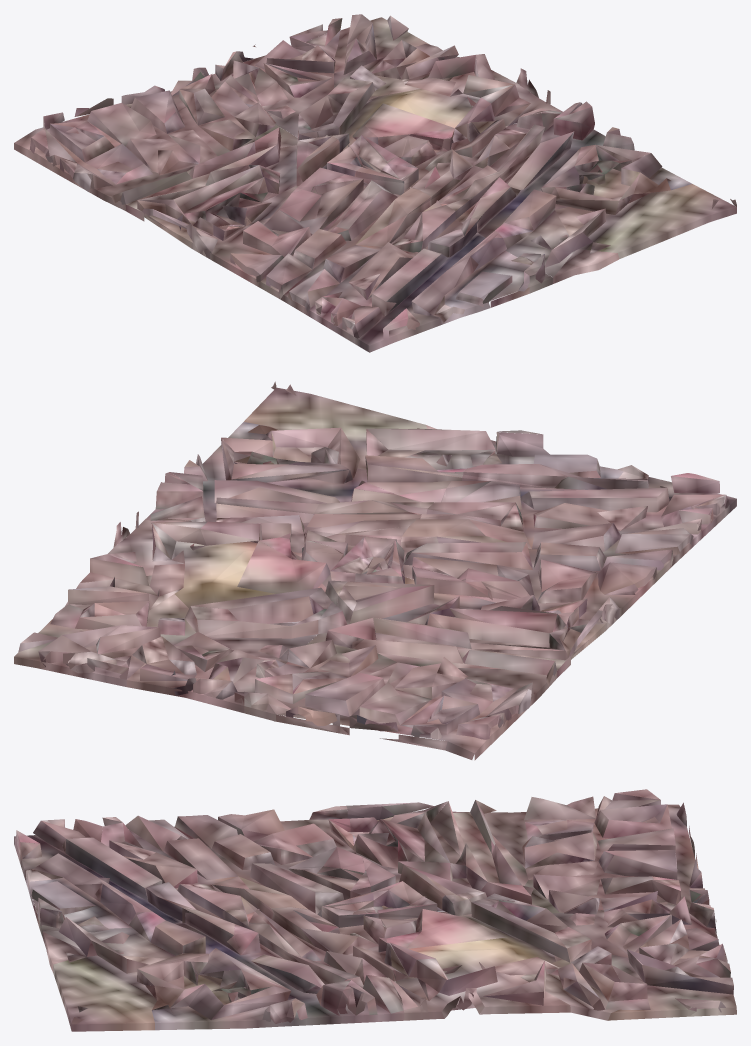
The picture shows the model from 3 angles, top to bottom: view 1: azimuth 30°, elevation 25°; view 2: azimuth 150°, elevation 25°; view 3: azimuth 270°, elevation 25°; orthographic projection. The views are drawn at different scales.
Visible parts, largest first — view 1: Mesh_0; view 2: Mesh_0; view 3: Mesh_0.
Boxes of the visible parts, bbox=[...] form: Mesh_0: bbox=[14, 14, 736, 352]; Mesh_0: bbox=[14, 381, 736, 760]; Mesh_0: bbox=[14, 789, 736, 1031].
Size of the model in its own units: 532 by 57.01 by 659.
2 materials, 2 textured.
